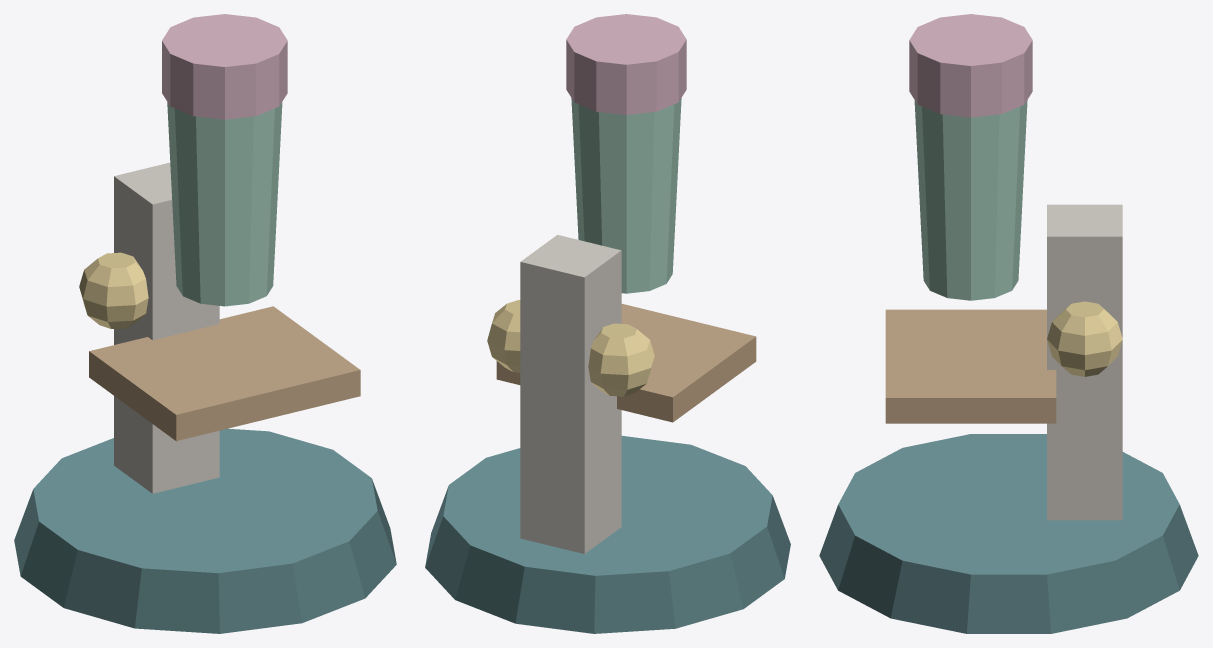
Rendered from microscope.glb.
3 renders of one model, left to right at view 1: azimuth 30°, elevation 25°; view 2: azimuth 150°, elevation 25°; view 3: azimuth 270°, elevation 25°, orthographic. The views are drawn at different scales.
Visible parts, largest first — view 1: microscope; view 2: microscope; view 3: microscope.
Part boxes in pixels (x1,y1,x2,y2): microscope: (14, 14, 396, 633); microscope: (425, 14, 790, 633); microscope: (819, 14, 1198, 633).
Size of the model in its own units: 0.39 by 0.6 by 0.4.
